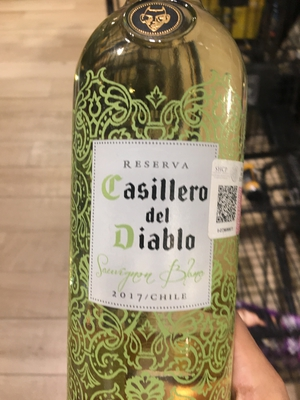casillero del diablo sauvignon blanc: (69, 16, 244, 400)
